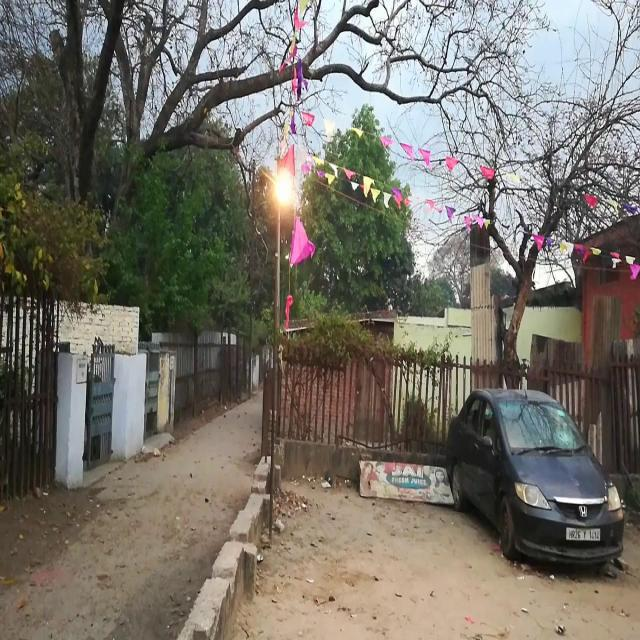other: (262, 150, 306, 223)
